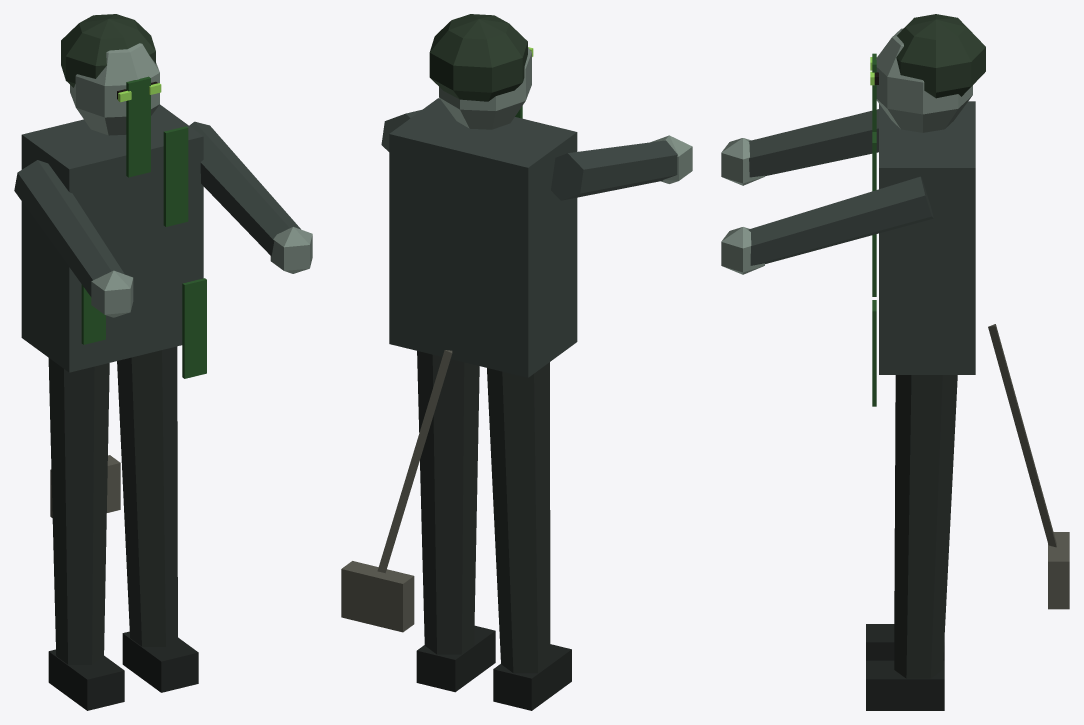
File: wasserleiche.glb
3 views of the same model, side by side, from view 1: azimuth 30°, elevation 25°; view 2: azimuth 150°, elevation 25°; view 3: azimuth 270°, elevation 25° (orthographic). The views are drawn at different scales.
Bounding box in the file's own units: 0.5748 × 1.67 × 0.7948.
Materials: 1 (1 with a texture image).
